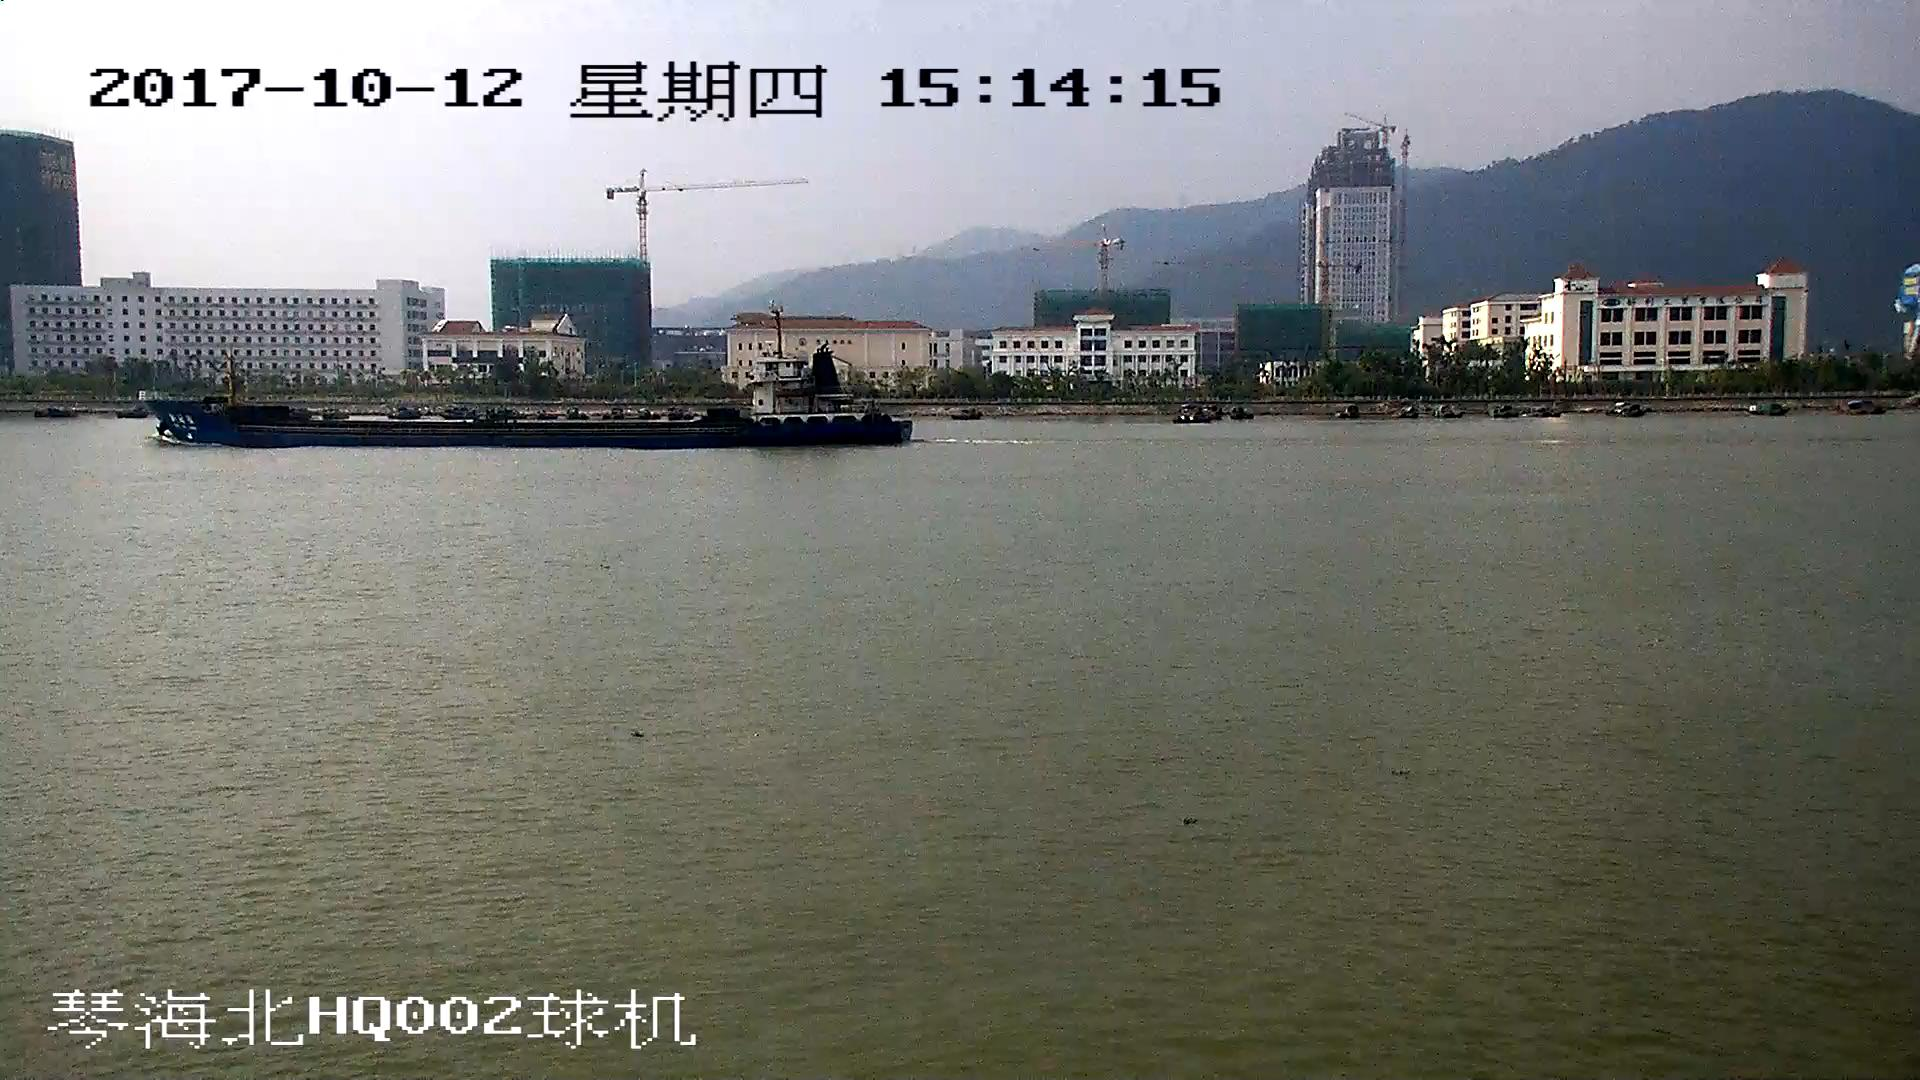general cargo ship: (143, 315, 913, 449)
